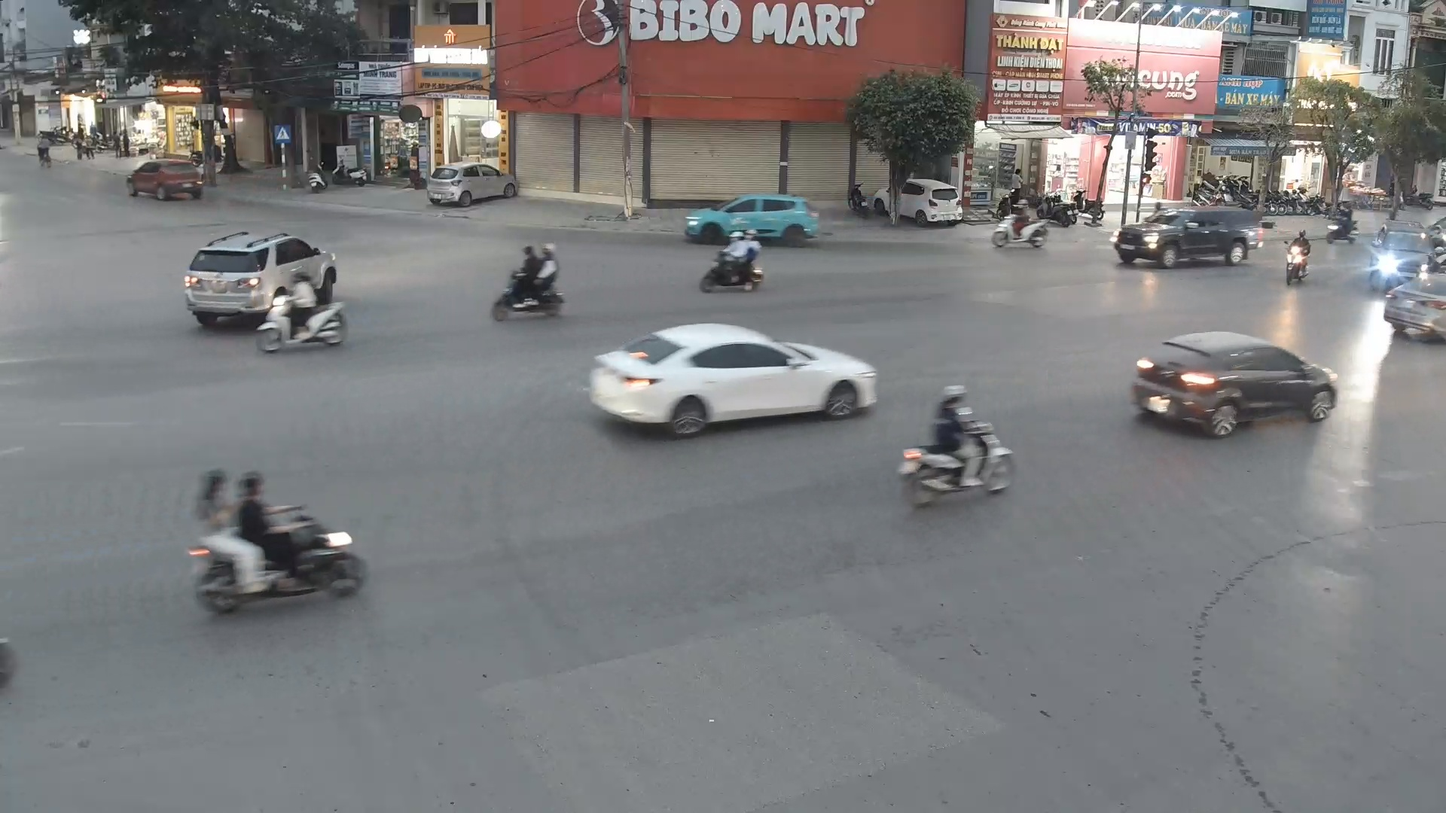car: (588, 320, 878, 438), (1129, 329, 1341, 438), (183, 229, 339, 332), (1112, 202, 1262, 270), (686, 193, 821, 248), (1382, 266, 1445, 346), (426, 160, 520, 208), (126, 158, 205, 203)
motorbike: (188, 466, 370, 616), (896, 381, 1016, 508), (255, 261, 350, 354), (489, 241, 567, 321), (698, 230, 767, 294), (990, 210, 1051, 249), (1283, 230, 1313, 288)
